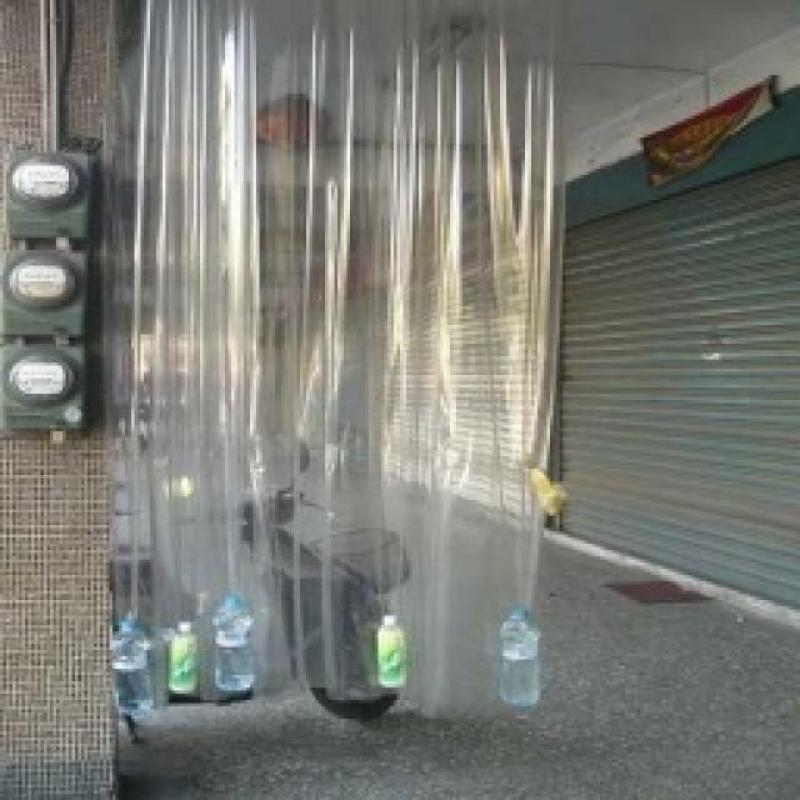botella: (495, 608, 543, 708), (107, 620, 155, 714), (212, 596, 257, 694)
